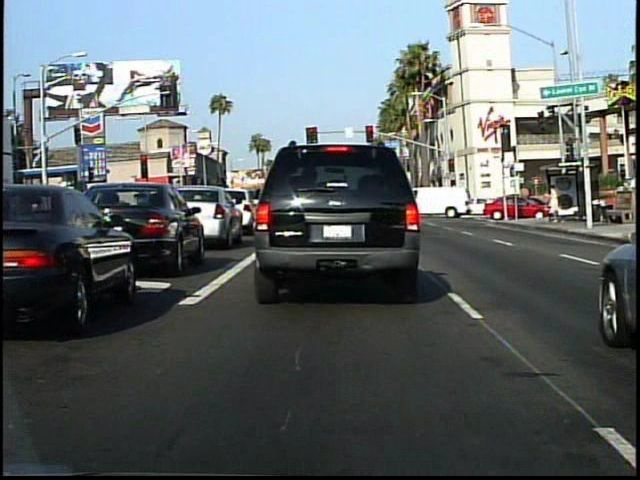person: (544, 181, 564, 228)
